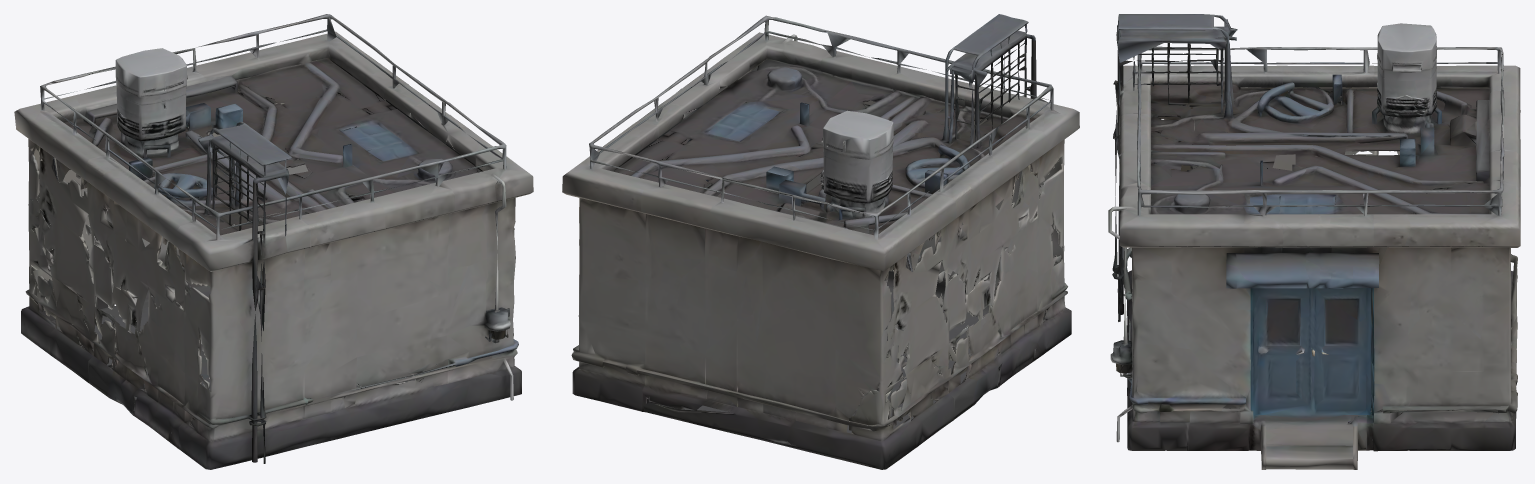
The model's file is webtoon_rooftop_stairwell_entry.glb.
3 views of the same model, side by side, from view 1: azimuth 30°, elevation 25°; view 2: azimuth 150°, elevation 25°; view 3: azimuth 270°, elevation 25° (orthographic). The views are drawn at different scales.
Parts seen in each view (by area): view 1: webtoon_rooftop_stairwell_entry_mesh_00; view 2: webtoon_rooftop_stairwell_entry_mesh_00; view 3: webtoon_rooftop_stairwell_entry_mesh_00.
Boxes of the visible parts, left/top/right/bottom form: webtoon_rooftop_stairwell_entry_mesh_00: left=14, top=14, right=533, bottom=469; webtoon_rooftop_stairwell_entry_mesh_00: left=562, top=14, right=1079, bottom=469; webtoon_rooftop_stairwell_entry_mesh_00: left=1108, top=14, right=1520, bottom=469.
Size of the model in its own units: 4.02 by 3.25 by 3.95.
1 material, 1 textured.
